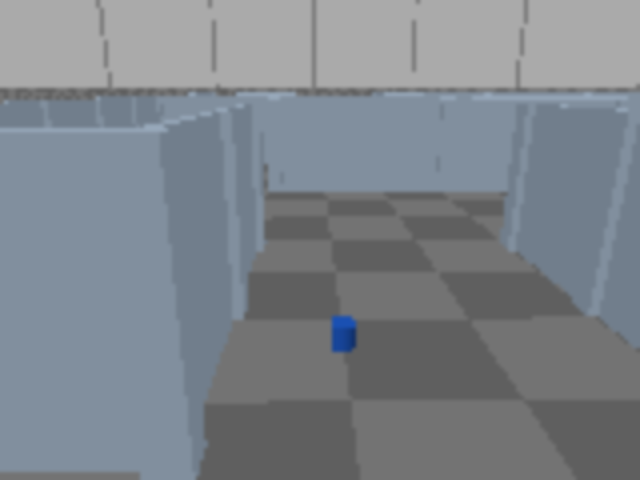puck: (332, 316, 355, 352)
